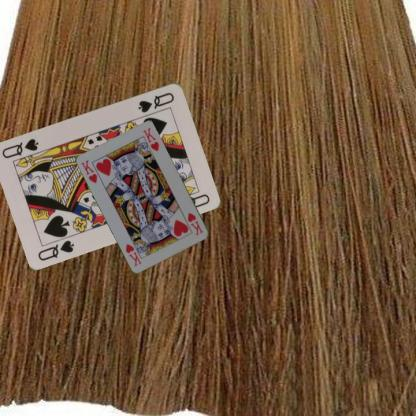Kh: (78, 157, 98, 185), (185, 210, 204, 237)
Qs: (135, 89, 176, 114), (35, 237, 76, 262)
